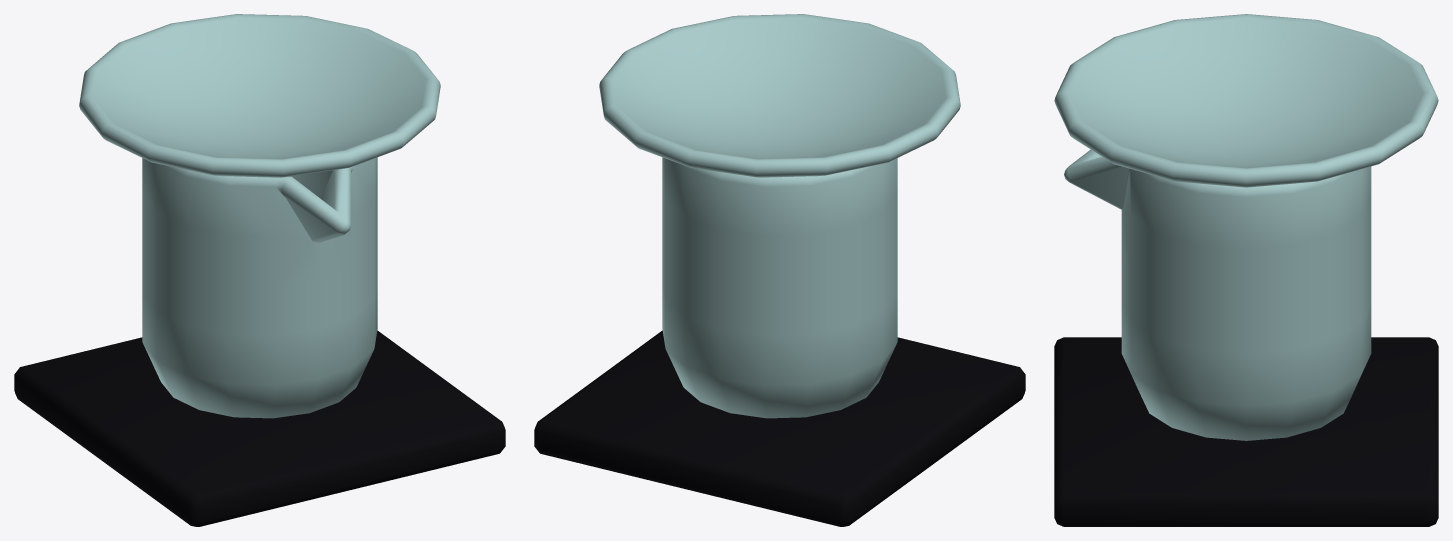
Rendered from LastLuna_Model_Station_Incubator.fbx.
3 renders of one model, left to right at view 1: azimuth 30°, elevation 25°; view 2: azimuth 150°, elevation 25°; view 3: azimuth 270°, elevation 25°, orthographic. The views are drawn at different scales.
Parts seen in each view (by area): view 1: Beaker001, Stand_Base_Small001, Watch_Glass001; view 2: Beaker001, Stand_Base_Small001, Watch_Glass001; view 3: Beaker001, Stand_Base_Small001, Watch_Glass001.
Boxes of the visible parts, left/top/right/bottom form: Beaker001: left=142, top=157, right=377, bottom=418; Stand_Base_Small001: left=14, top=330, right=505, bottom=526; Watch_Glass001: left=79, top=14, right=440, bottom=177; Beaker001: left=662, top=157, right=897, bottom=418; Stand_Base_Small001: left=534, top=330, right=1025, bottom=526; Watch_Glass001: left=599, top=14, right=960, bottom=177; Beaker001: left=1064, top=149, right=1371, bottom=440; Stand_Base_Small001: left=1054, top=337, right=1438, bottom=526; Watch_Glass001: left=1054, top=14, right=1438, bottom=187.
Size of the model in its own units: 39.37 by 40.43 by 39.37.
